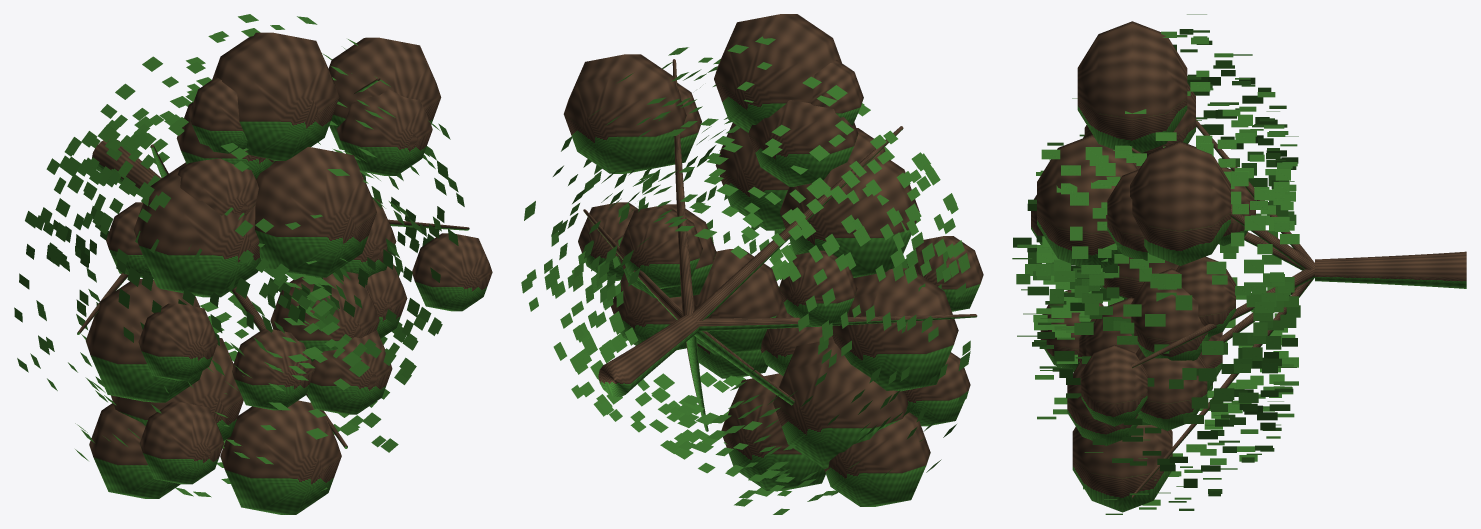
File: veg_tree_oak_01.glb
3 renders of one model, left to right at view 1: azimuth 30°, elevation 25°; view 2: azimuth 150°, elevation 25°; view 3: azimuth 270°, elevation 25°, orthographic.
Parts seen in each view (by area): view 1: veg_tree_oak_01; view 2: veg_tree_oak_01; view 3: veg_tree_oak_01.
Boxes of the visible parts, x1,y1,x2,y2 form: veg_tree_oak_01: [14, 14, 492, 514]; veg_tree_oak_01: [521, 14, 983, 514]; veg_tree_oak_01: [1012, 14, 1466, 514].
Bounding box in the file's own units: 13.28 × 14.13 × 12.
1 material, 1 textured.
